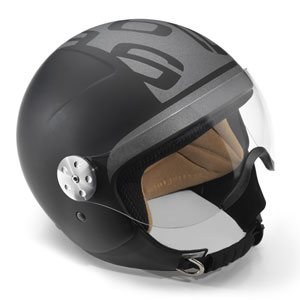helmet: (24, 31, 267, 267)
